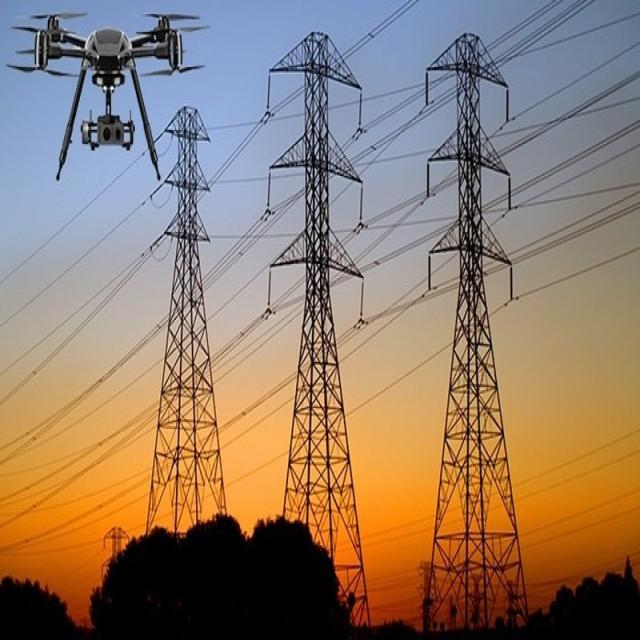non-critical vegetation: (258, 21, 376, 619), (420, 26, 530, 629), (132, 82, 231, 540)
